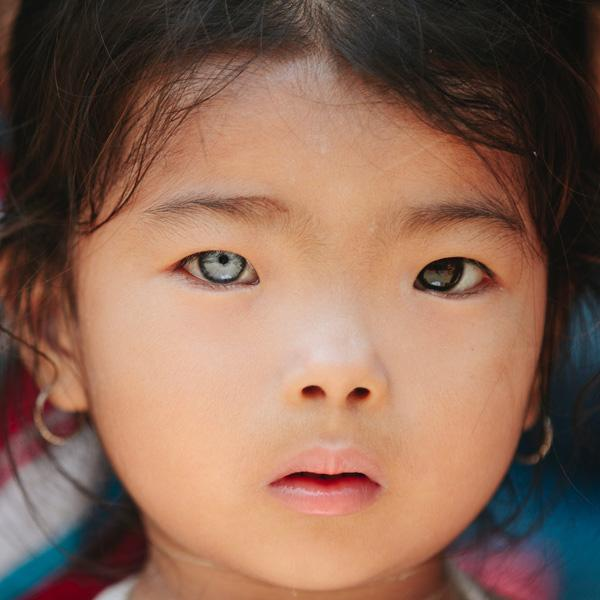Eyes: (401, 239, 512, 319), (162, 232, 268, 309)
